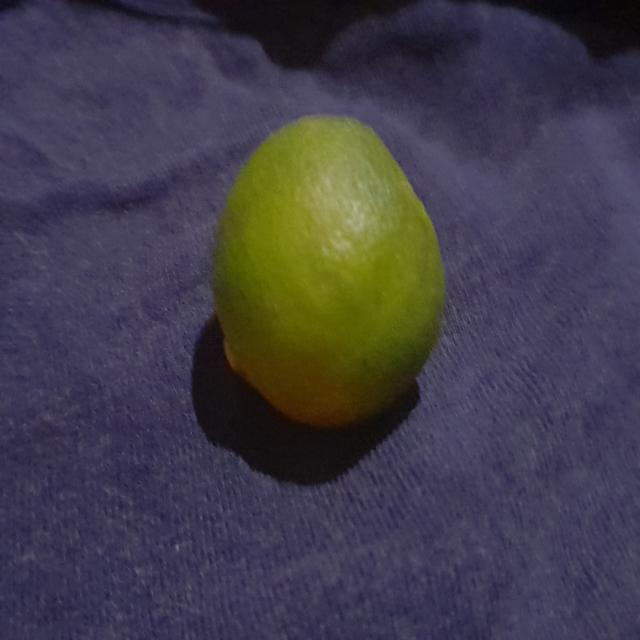heathy: (207, 101, 452, 444)
